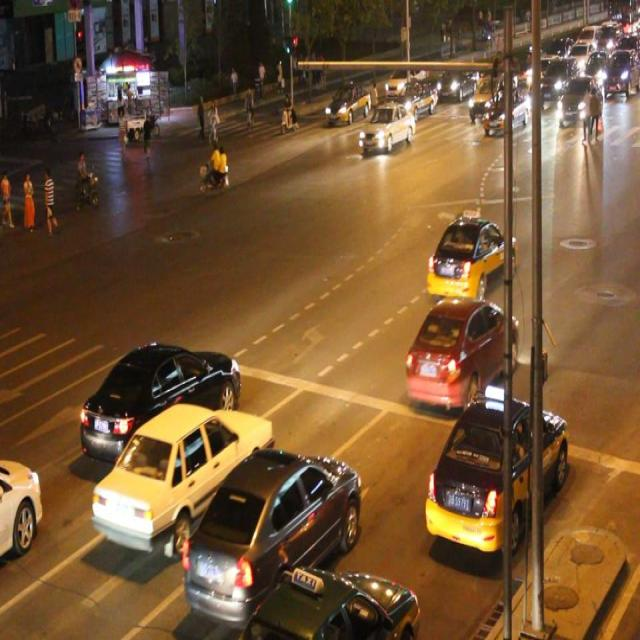car: (183, 445, 359, 625), (91, 401, 273, 554), (421, 392, 570, 556), (80, 342, 240, 464), (240, 562, 420, 640), (403, 295, 518, 407), (425, 214, 516, 300), (0, 454, 42, 556), (358, 102, 414, 154)
